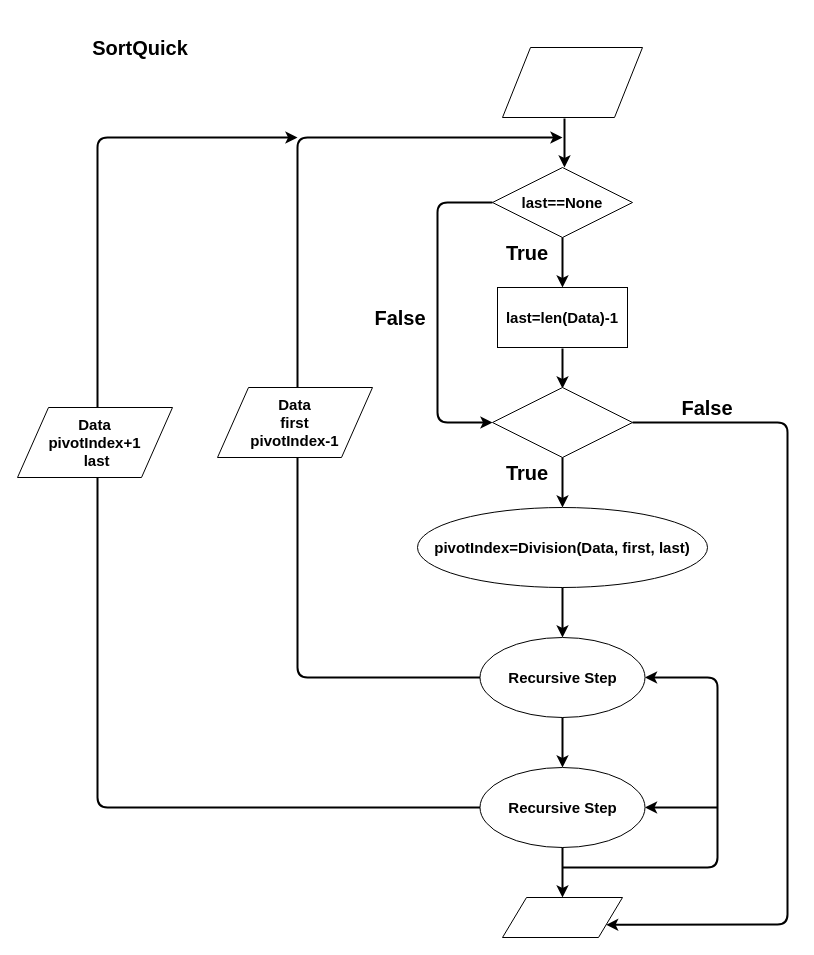
Image size: 814x955. Some labels were removed from this diagram. Here are the shapes that lost their labels. From the top down, the centre of each, then its label:
At (572,82): "Data first=0 last=None".
At (562,422): "first < last".
At (562,917): "Data".
